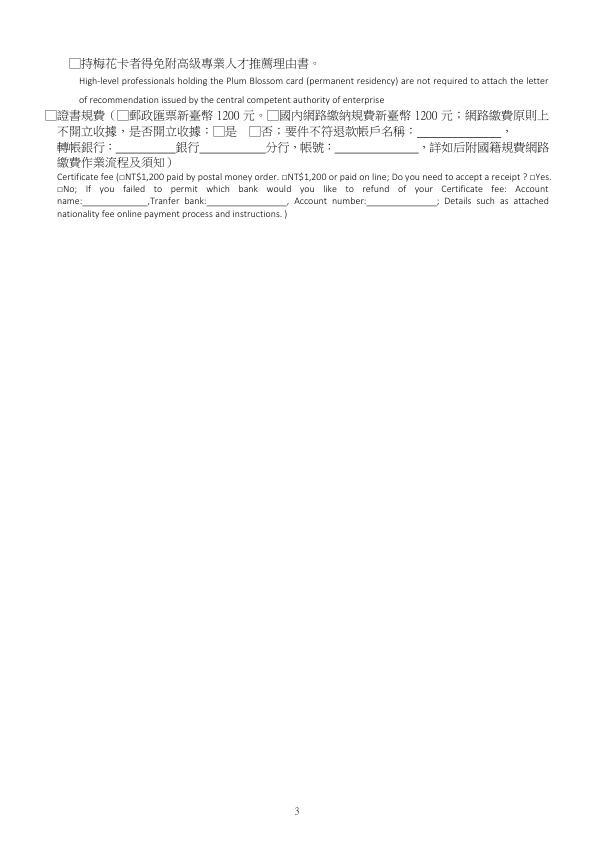check_box: (67, 54, 83, 70), (115, 107, 129, 123), (211, 124, 225, 139), (43, 107, 56, 122), (267, 108, 280, 123), (248, 123, 260, 139), (55, 186, 62, 196), (529, 173, 535, 182), (280, 173, 286, 180), (118, 174, 124, 180)
input: (336, 138, 420, 157), (416, 125, 502, 140), (206, 195, 288, 208), (367, 197, 441, 209), (200, 142, 265, 155), (116, 142, 176, 154), (83, 197, 148, 207)
text: (81, 51, 552, 104), (63, 185, 552, 195), (278, 107, 554, 123), (56, 209, 292, 222), (286, 172, 528, 183), (130, 106, 266, 123), (422, 140, 554, 157), (54, 125, 209, 139), (262, 126, 414, 138), (125, 172, 280, 183), (55, 156, 176, 169), (444, 196, 552, 208), (267, 141, 334, 157), (56, 106, 114, 123), (56, 140, 113, 155), (293, 197, 365, 208), (56, 172, 118, 183), (149, 197, 205, 208), (177, 140, 198, 157), (56, 198, 82, 208), (226, 125, 240, 139), (536, 169, 550, 182)
